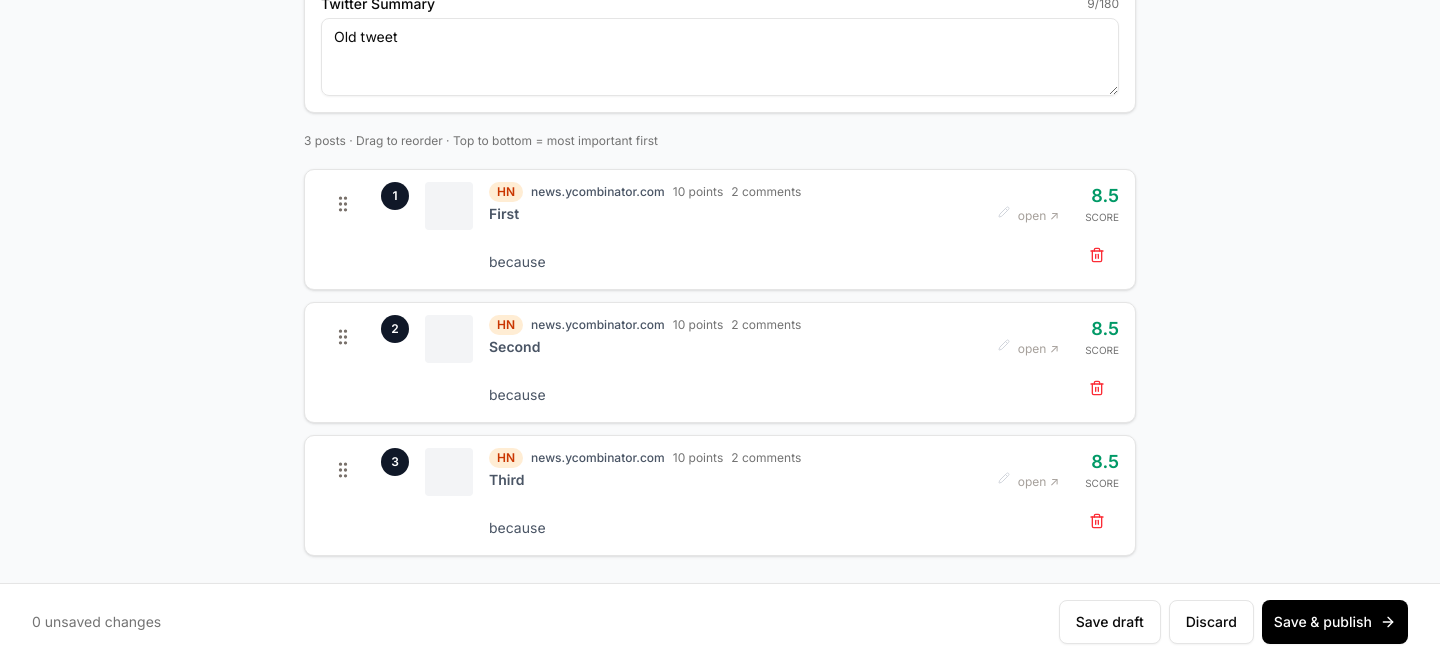
Test: ReviewPage › regenerate-before-save gate › keeps save enabled and opens a confirm dialog when saving with stale digest meta
(page scrolled)
Expected: the text "First" is shown, [489, 205, 519, 222]
Click the button named "Remove First": (1097, 255) [1075, 233, 1119, 277]
(page scrolled)
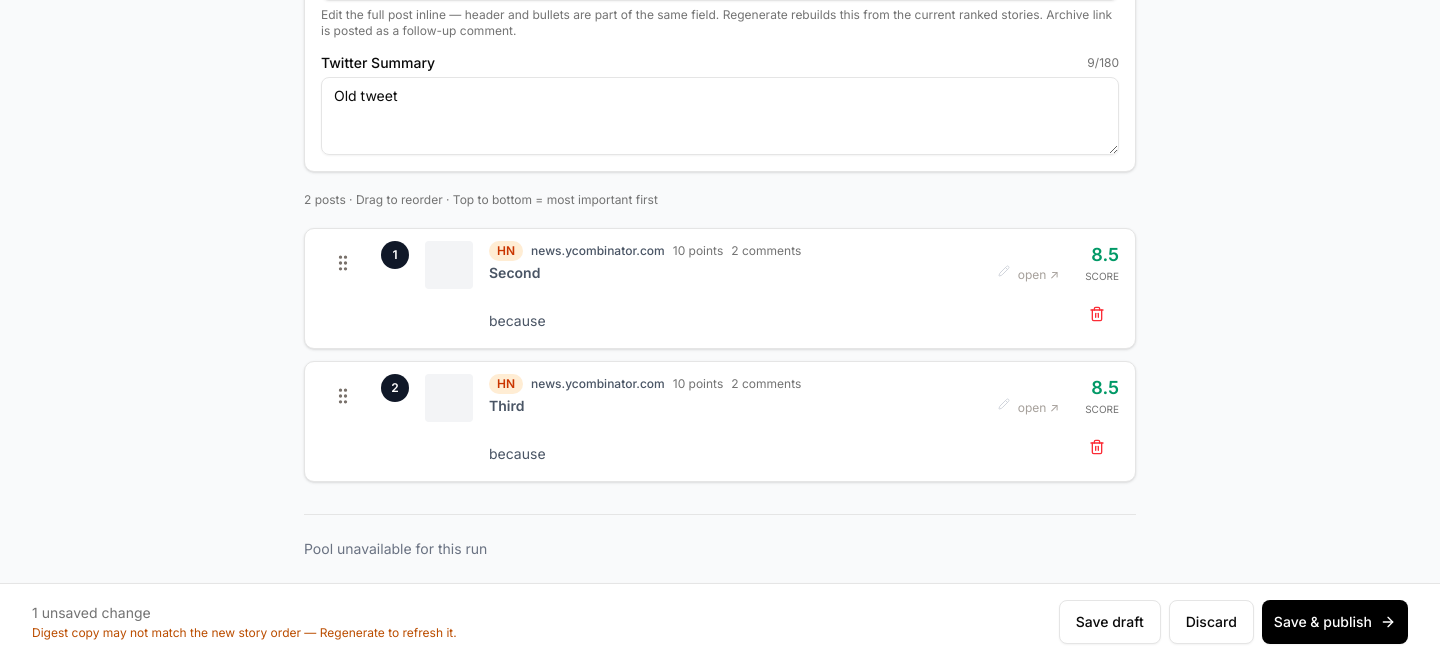
// Clicking Save opens the confirmation dialog instead of saving
Click the button "Save & publish": (1335, 622) [1262, 600, 1408, 644]
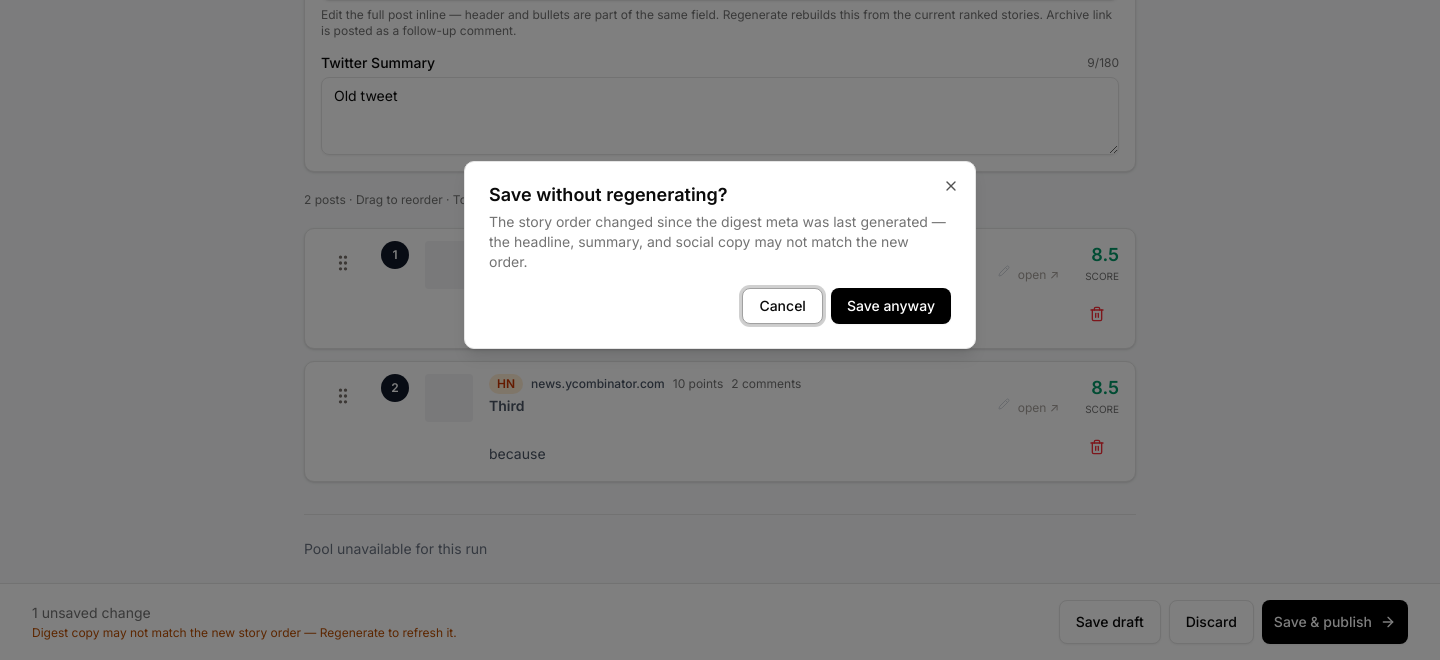
// Cancel closes the dialog without saving
Click the button "Cancel": (783, 306) [742, 288, 823, 324]
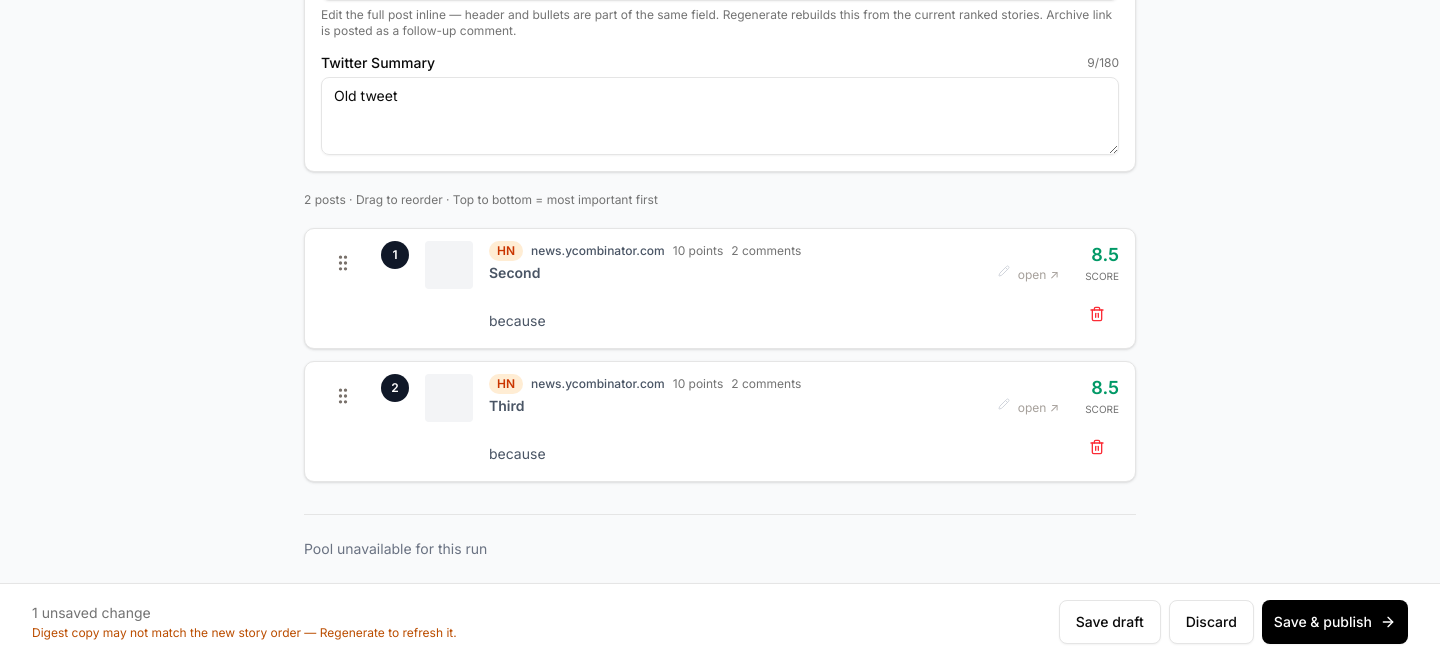
Expected: the text with test id "save-confirmation-message" is gone
